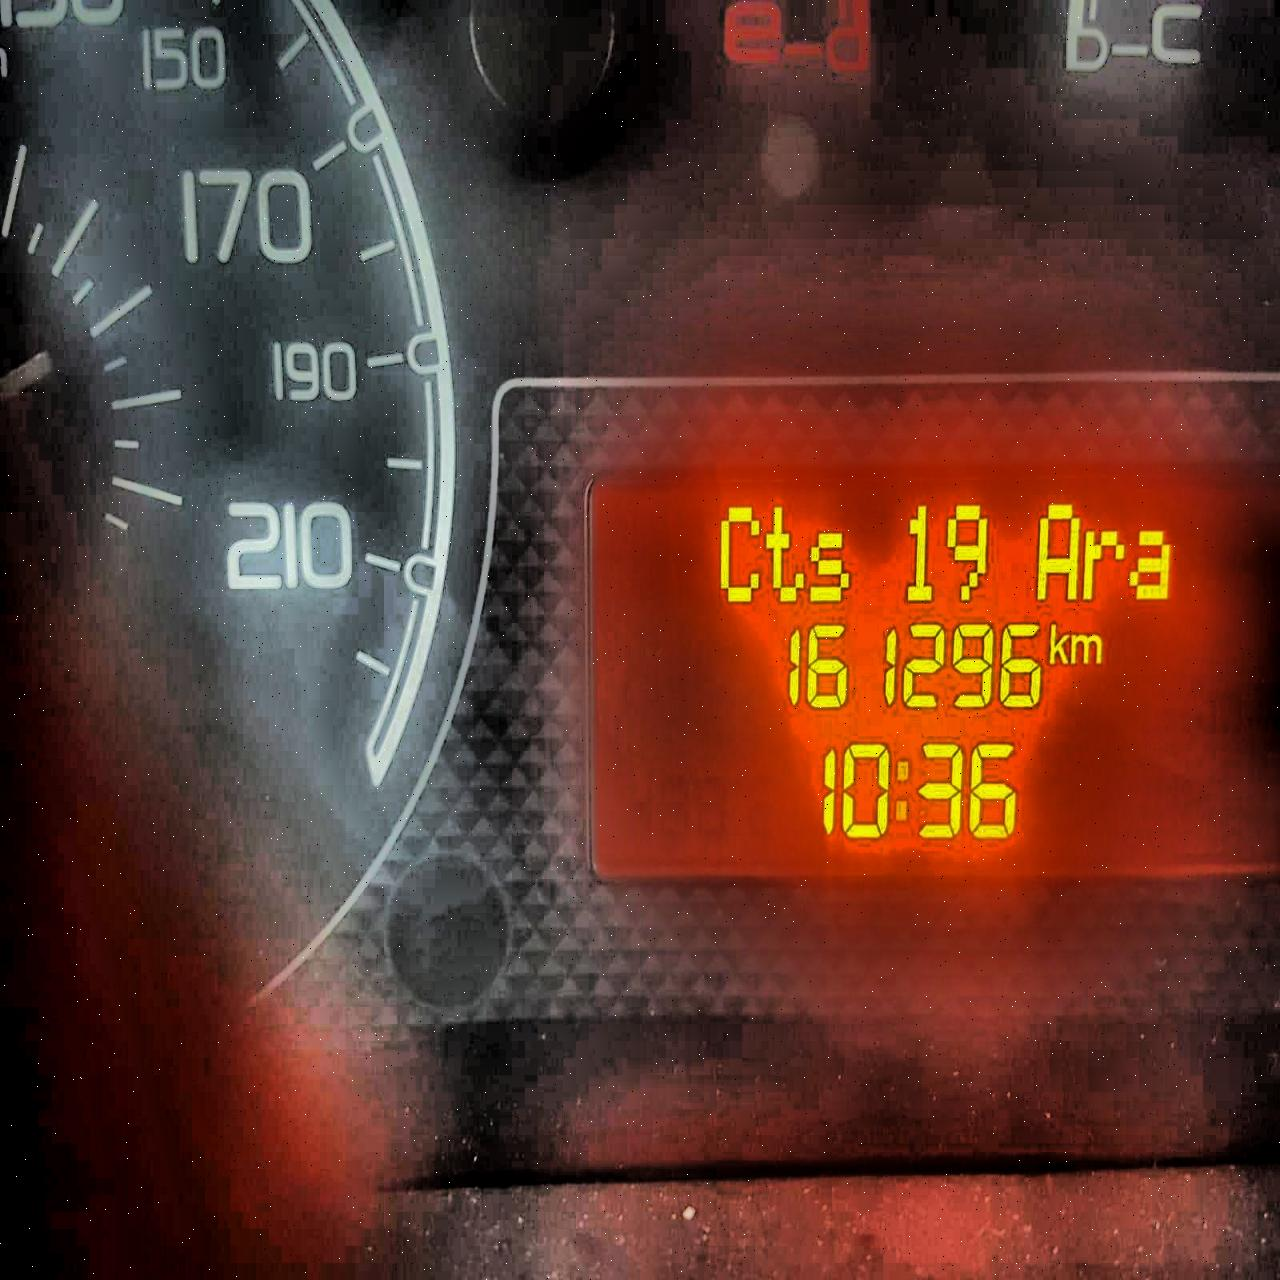0: (843, 742, 891, 837)
1: (905, 498, 933, 606), (821, 744, 836, 837), (785, 621, 801, 709), (883, 621, 897, 710)
2: (903, 621, 946, 710)
3: (919, 738, 964, 839)
6: (969, 738, 1020, 839), (999, 619, 1042, 710), (803, 621, 846, 708)
9: (942, 497, 989, 601), (949, 619, 994, 707)
X: (717, 499, 763, 607), (1037, 496, 1080, 601), (764, 502, 806, 602), (1083, 527, 1125, 602), (808, 530, 850, 605), (1126, 527, 1171, 598), (1070, 631, 1103, 666), (896, 756, 910, 823), (1049, 621, 1067, 665)
odometer: (577, 450, 1279, 897)
